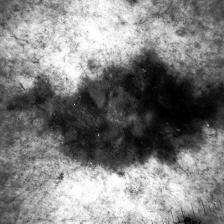Benign Marking or Mole: (22, 54, 224, 172)
